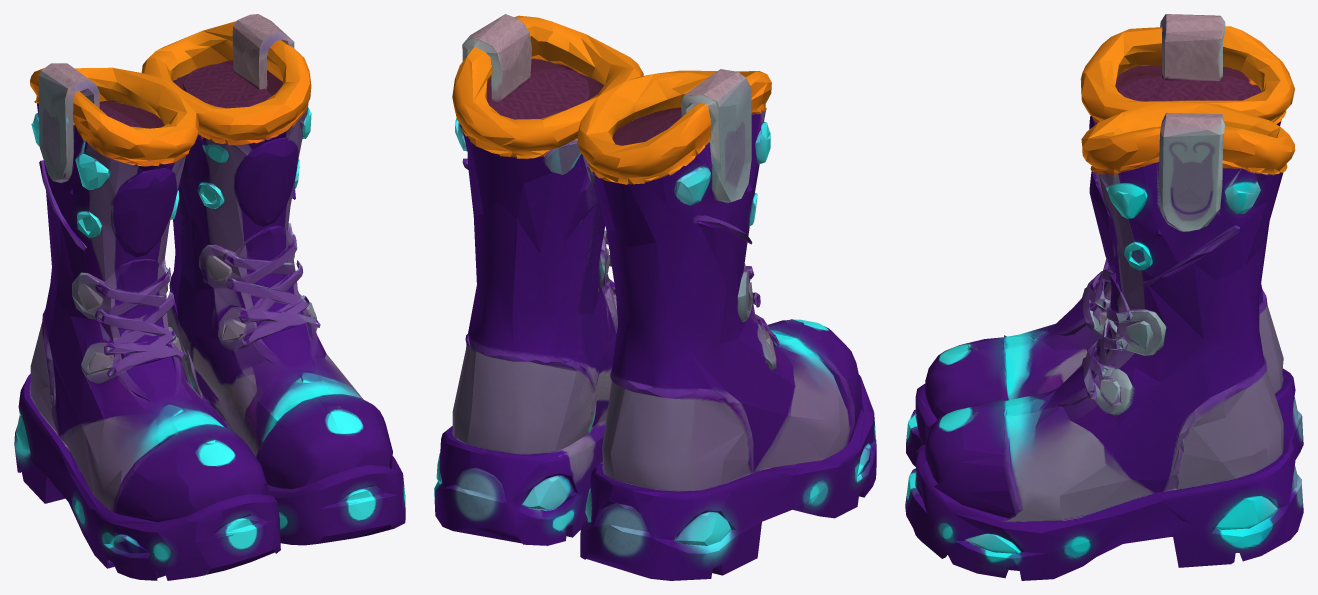
Rendered from hw-boots.glb.
3 renders of one model, left to right at view 1: azimuth 30°, elevation 25°; view 2: azimuth 150°, elevation 25°; view 3: azimuth 270°, elevation 25°, orthographic. The views are drawn at different scales.
Bounding box in the file's own units: 1.32 × 1.9 × 1.55.
Materials: 1 (1 with a texture image).
